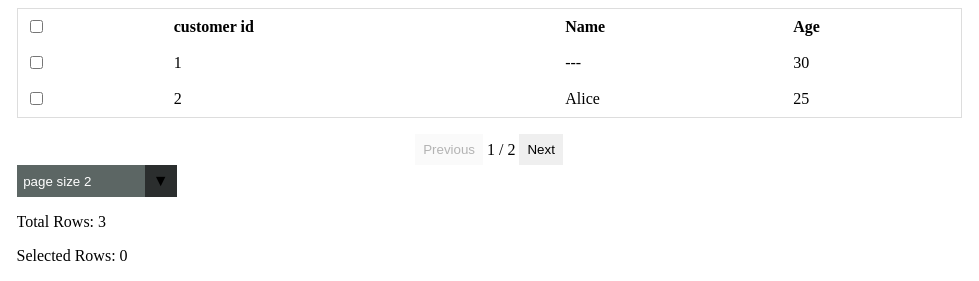
Scenario: TableComponent › should select table rows
Check the checkbox in the row of "Alice" at (37, 99), box top-left (30, 92), bottom-right (43, 105)
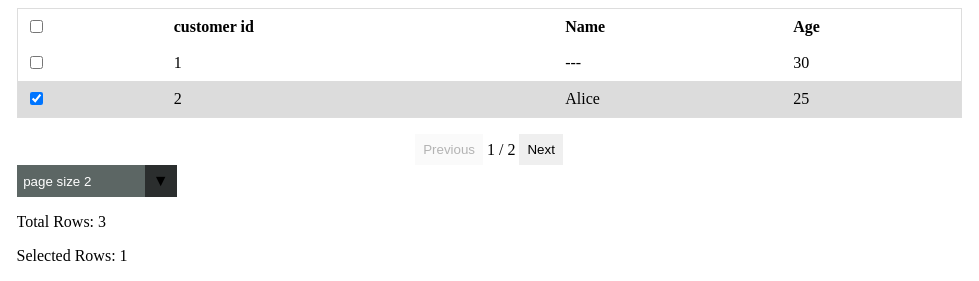
Expected: the text "Selected Rows: 1" is shown, top-left (16, 247), bottom-right (128, 264)
